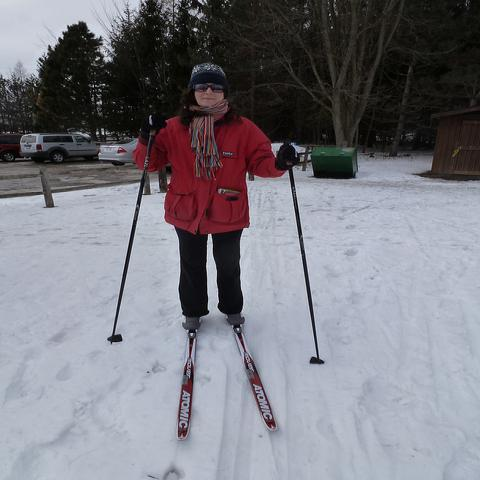car: (19, 132, 114, 162), (98, 139, 140, 166), (0, 132, 25, 161)
truck: (19, 132, 113, 164)
